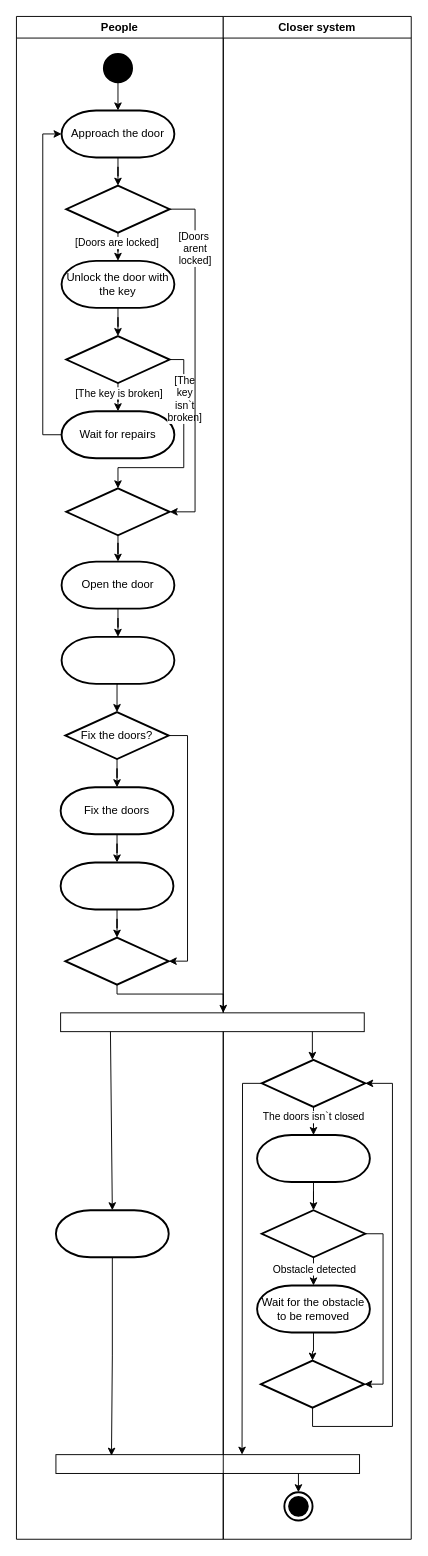
This 428x1556 diagram has some shape labels left out. Here are the shapes that lost their labels. From the top down, the centre of each, then its label:
(x=117, y=659): Enter the door
(x=116, y=885): Unfix the doors
(x=313, y=1158): Start closing the door
(x=112, y=1233): Move away from the door
